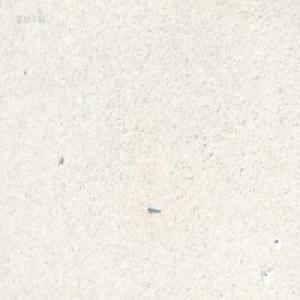Nail: (146, 202, 160, 212)
